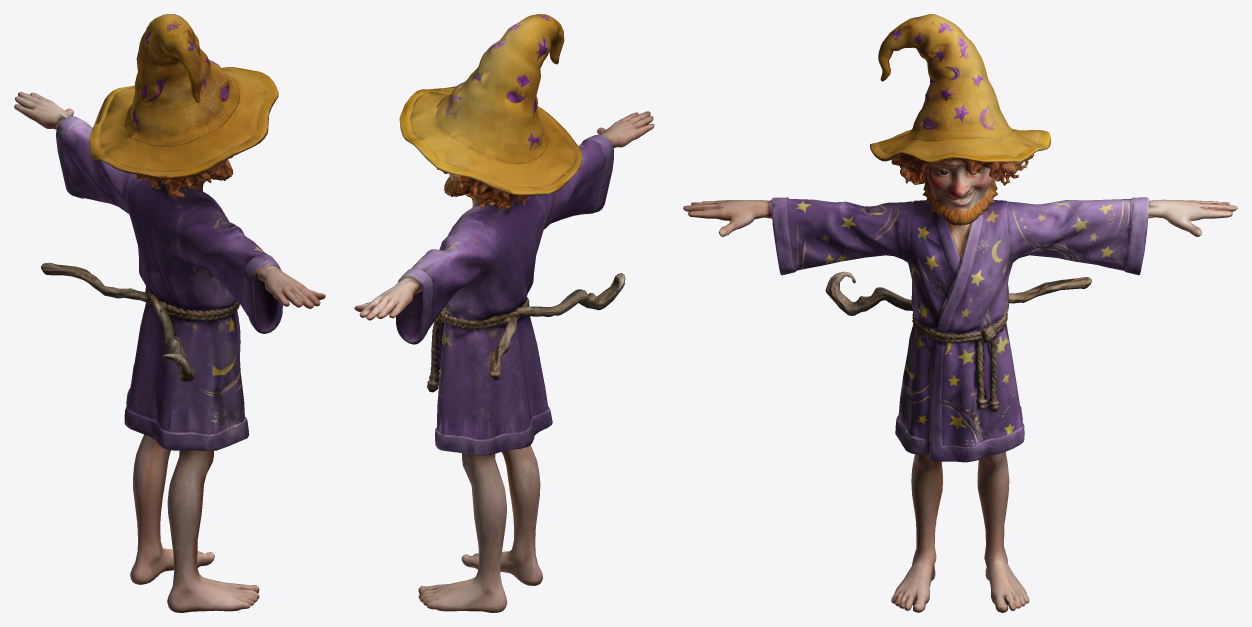
The model's file is the-wizard.glb.
The picture shows the model from 3 angles, left to right: view 1: azimuth 30°, elevation 25°; view 2: azimuth 150°, elevation 25°; view 3: azimuth 270°, elevation 25°; orthographic projection. The views are drawn at different scales.
Parts seen in each view (by area): view 1: 09-wizard; view 2: 09-wizard; view 3: 09-wizard.
Part boxes in pixels (<box>): 09-wizard: <box>14,14,325,612</box>; 09-wizard: <box>354,14,654,612</box>; 09-wizard: <box>683,14,1237,612</box>.
Size of the model in its own units: 0.287 by 0.9795 by 0.8746.
Materials: 1 (1 with a texture image).
